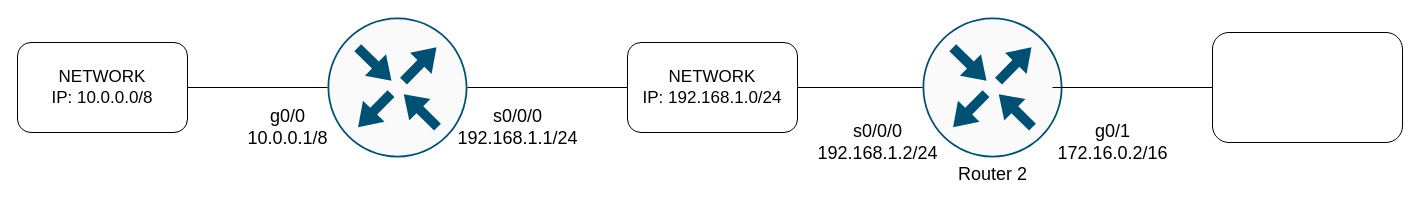
This 1420x204 diagram has some shape labels left out. Each missing label, with the centre of its shape:
NETWORK IP: 172.16.0.0/16: (x=1307, y=87)
Router 1: (x=397, y=87)
